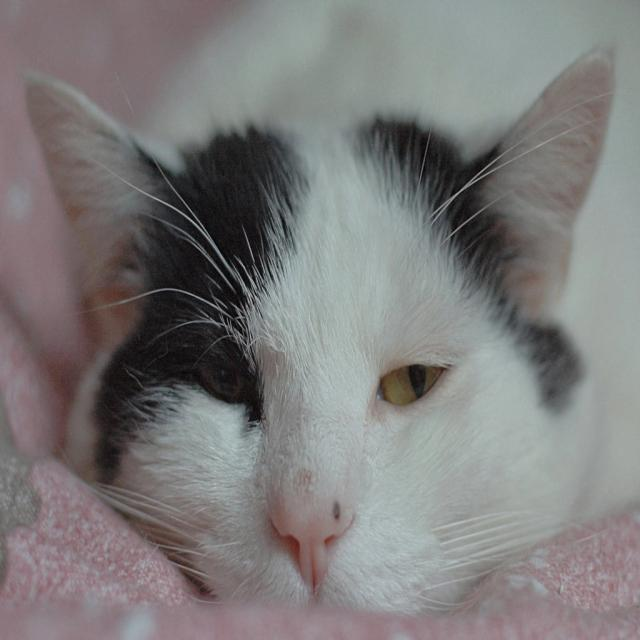cat: (22, 40, 631, 620)
